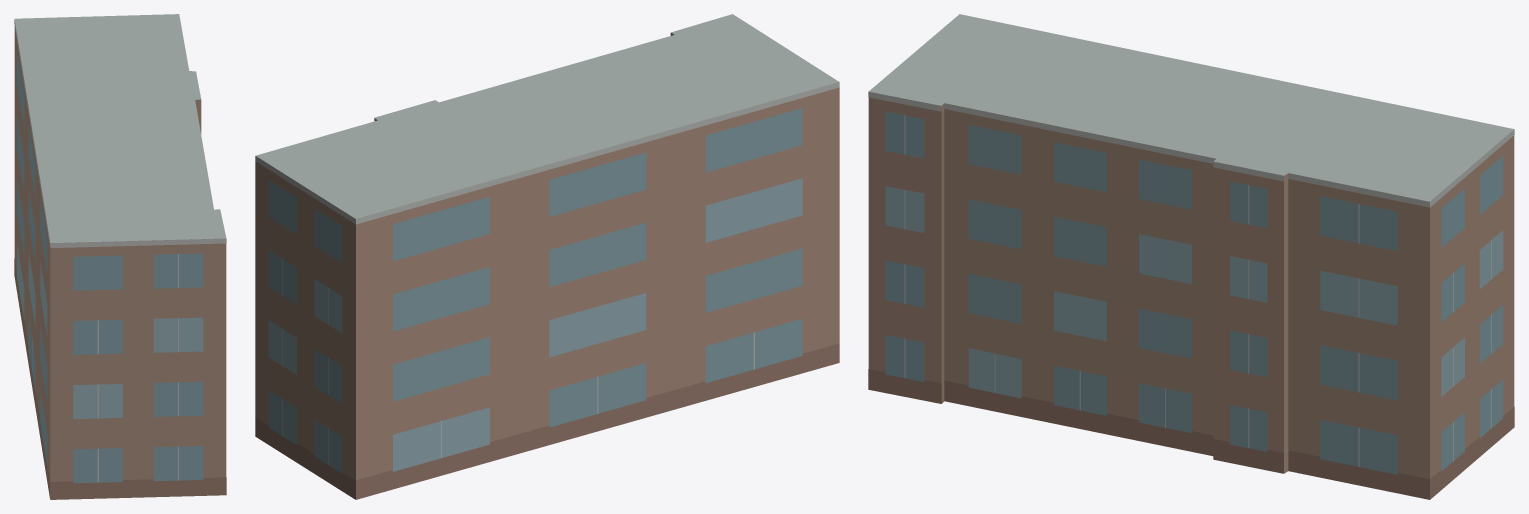
File: survey-upis-32524785.glb
3 renders of one model, left to right at view 1: azimuth 30°, elevation 25°; view 2: azimuth 150°, elevation 25°; view 3: azimuth 270°, elevation 25°, orthographic. The views are drawn at different scales.
Parts seen in each view (by area): view 1: survey-upis-32524785.tmp; view 2: survey-upis-32524785.tmp; view 3: survey-upis-32524785.tmp.
Boxes of the visible parts, x1,y1,x2,y2 form: survey-upis-32524785.tmp: (14,14,226,499); survey-upis-32524785.tmp: (255,14,839,499); survey-upis-32524785.tmp: (868,14,1514,499).
Size of the model in its own units: 17 by 12.57 by 24.7.
